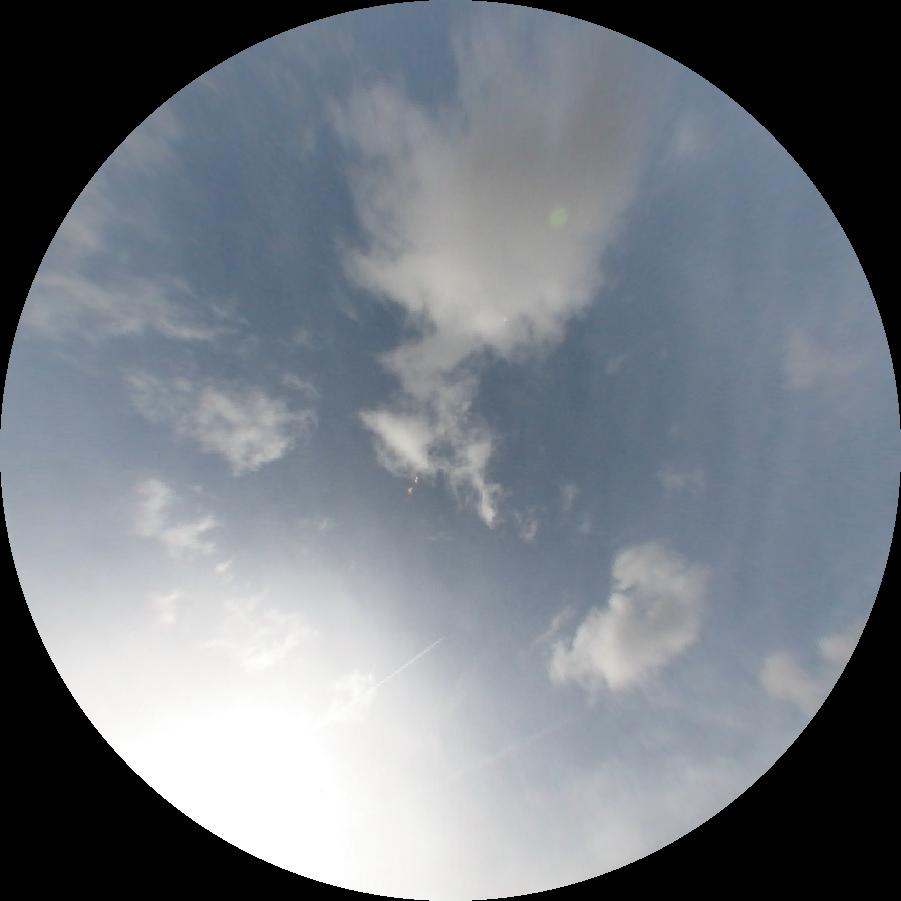contrail veryold: (450, 717, 572, 785)
contrail young: (337, 637, 443, 711)
sun: (89, 704, 361, 888)
